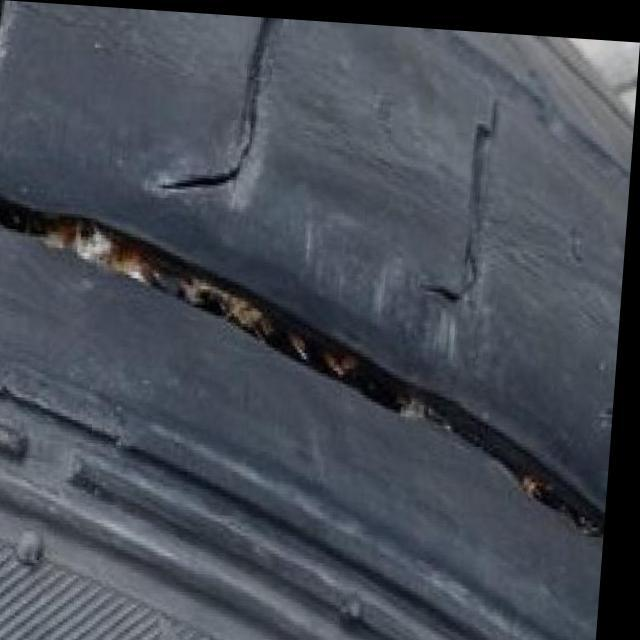Flat spots: (0, 58, 620, 639)
